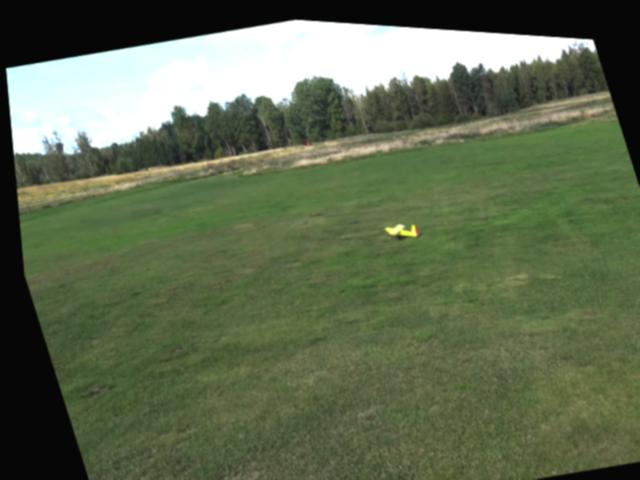plane: (377, 211, 420, 242)
